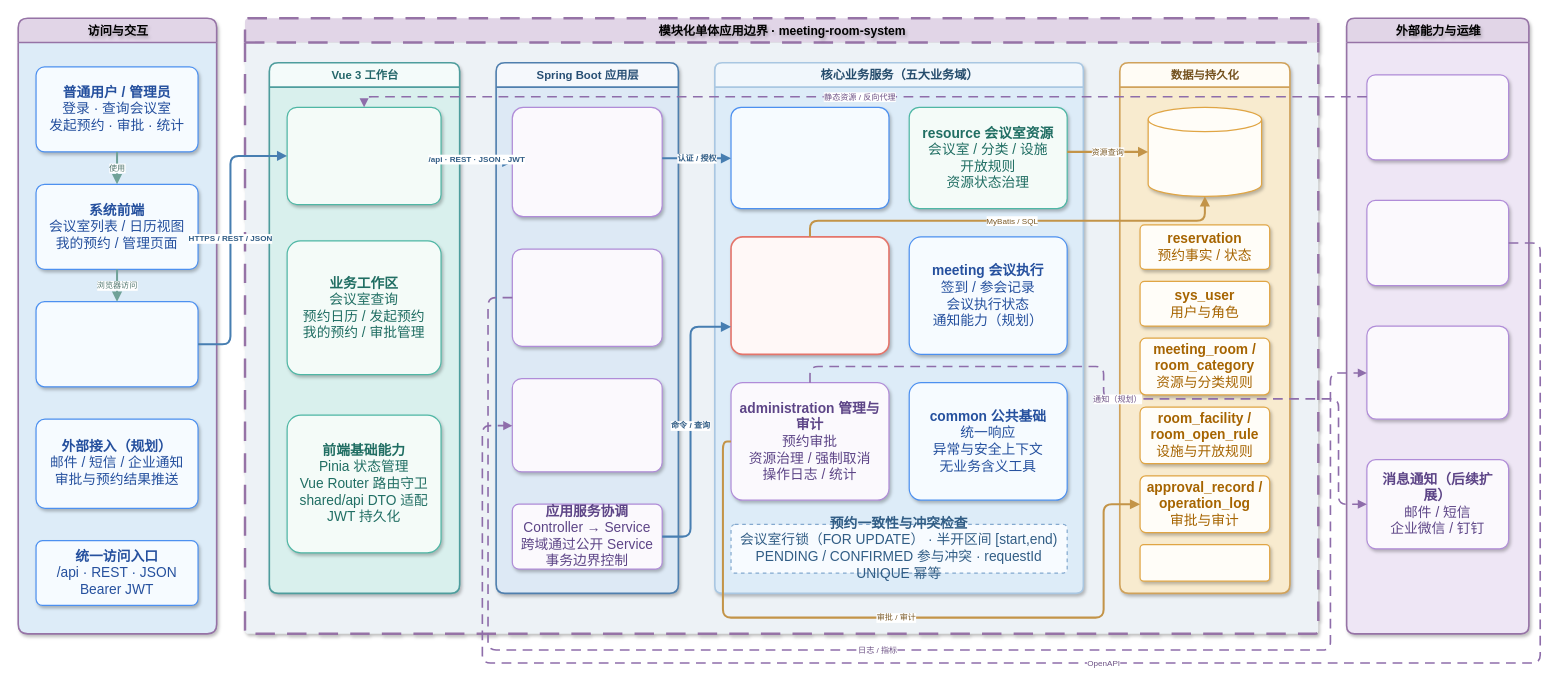
The diagram is 1561 pixels wide and 684 high, and some of its shapes have lost their labels. The centre of each missing label's shape, as x and y in pixels:
"API 契约 /api 统一前缀 统一响应结构 OpenAPI / Swagger" belongs at point (587, 426).
"identity 身份与认证 登录认证 当前用户 USER / ADMIN 权限" belongs at point (810, 158).
"MyBatis Mapper 显式 SQL · 行锁查询" belongs at point (1205, 564).
"MySQL 8 / InnoDB 业务数据库 事务 · 行锁 · 外键" belongs at point (1205, 152).
"Nginx / 静态资源 反向代理 前端构建产物部署" belongs at point (1438, 118).
"reservation 预约核心 创建 / 查询 / 取消 时间冲突检测 幂等与状态管理" belongs at point (810, 296).
"Vue 3 前端应用 TypeScript + Vite Element Plus" belongs at point (364, 156).
"Web 浏览器 HTTP REST / JSON PC 端课程展示环境" belongs at point (117, 345).
"接口与鉴权层 REST Controller Spring Security + JWT 参数校验 Validation" belongs at point (587, 163).
"接口文档与测试 Swagger UI Postman / 联调验证" belongs at point (1438, 243).
"日志与监控（规划） 应用日志 性能指标 / 告警 审计追踪" belongs at point (1438, 373).
"统一异常处理 GlobalExceptionHandler 标准错误码 409 冲突语义" belongs at point (587, 298).
